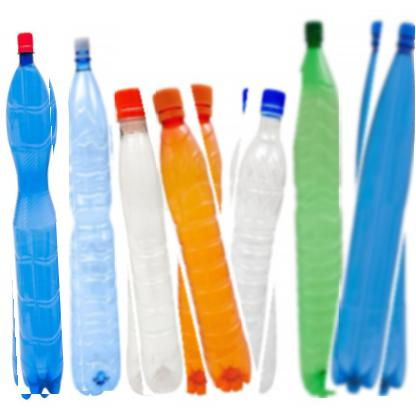plastic-bottles: (340, 15, 416, 398), (157, 71, 243, 401), (218, 67, 293, 400), (290, 10, 345, 400), (116, 71, 180, 397), (5, 31, 61, 396), (70, 31, 120, 393)
